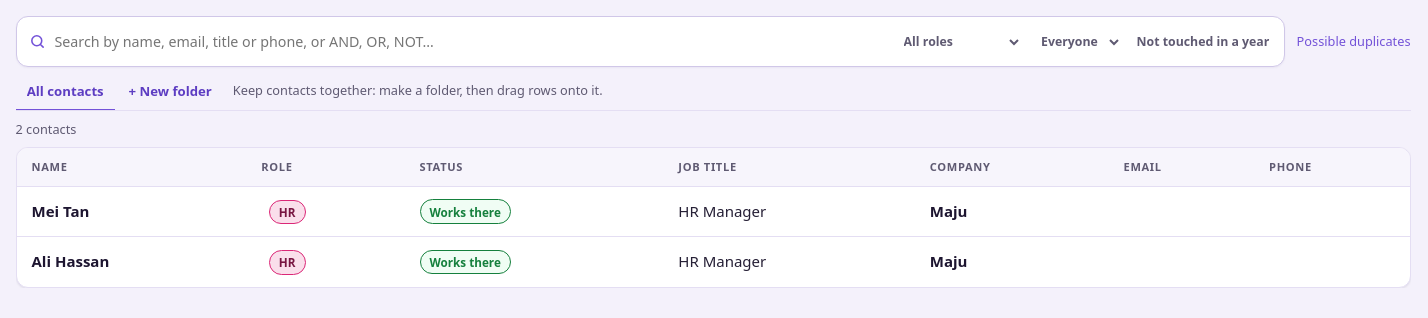
Test: folders on a list › makes a new folder and opens it
Expected: the text "make a folder, then drag rows onto it" is shown, x1=316 y1=81 x2=602 y2=99
Step 1. Click the button "+ New folder" → (170, 92), box x1=117 y1=73 x2=223 y2=111
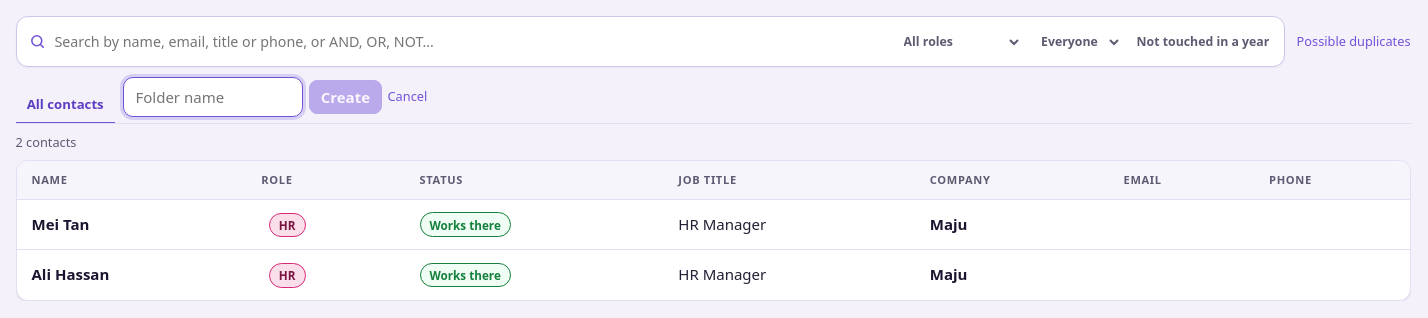
Step 2. Type "  Warm leads " into the field named "New folder name" → (213, 97), box x1=123 y1=77 x2=303 y2=117
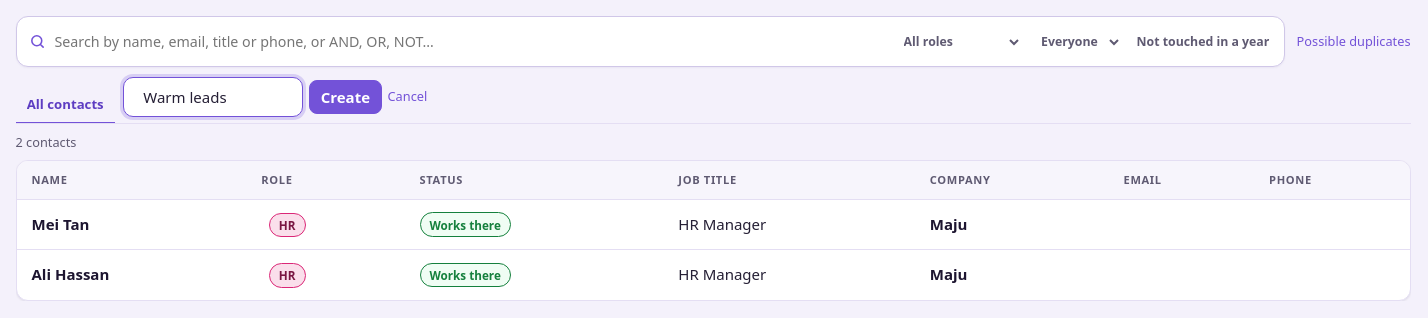
Step 3. Click the button "Create" → (345, 97), box x1=309 y1=80 x2=382 y2=114
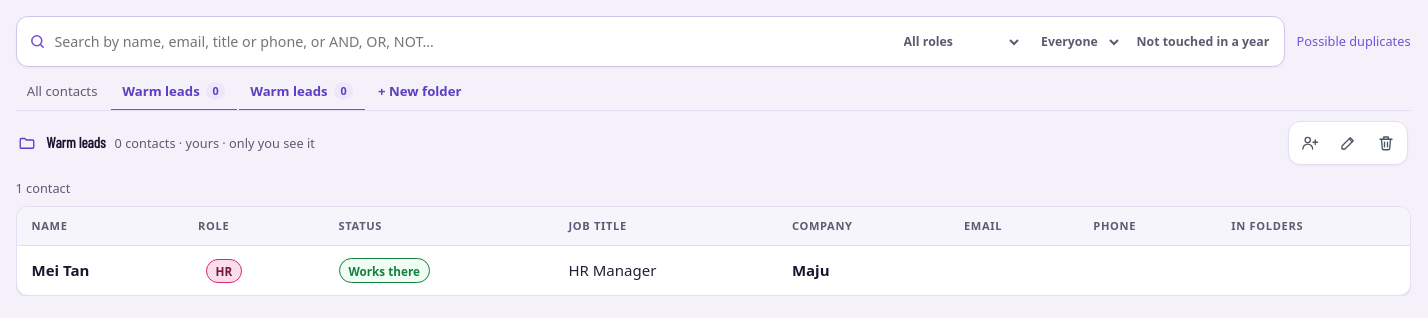
Expected: the heading "Warm leads" is shown, x1=46 y1=133 x2=106 y2=151
